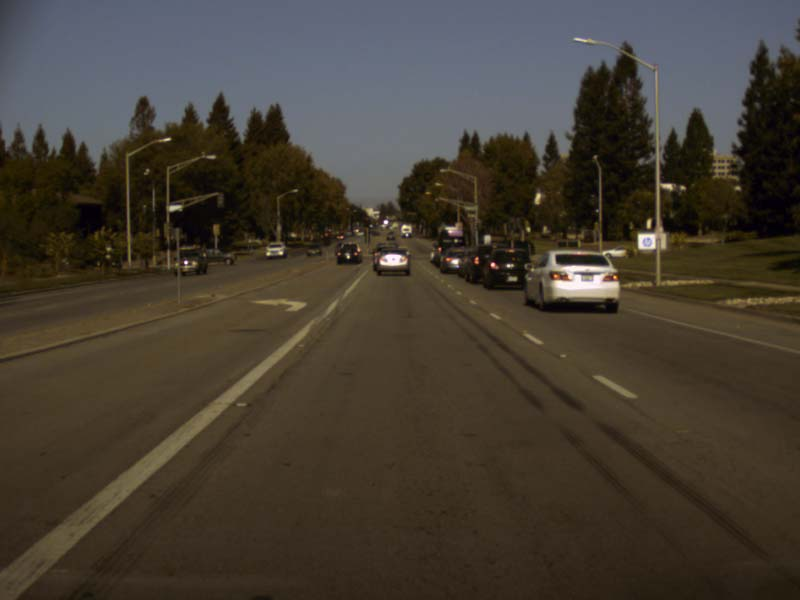Red: (322, 231, 329, 245), (434, 197, 438, 207)
